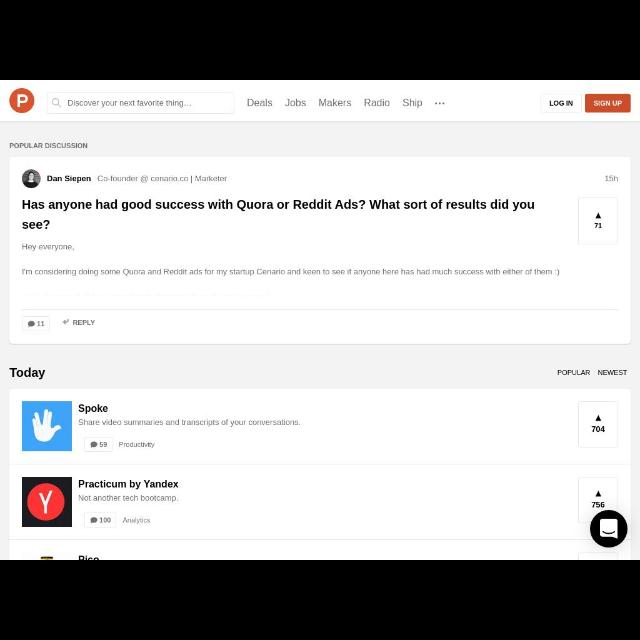button: (579, 198, 617, 246), (580, 402, 616, 448), (580, 480, 618, 522), (590, 512, 628, 548)
icon: (601, 518, 617, 538), (52, 98, 62, 109), (595, 490, 603, 498), (435, 100, 445, 106), (26, 321, 34, 327), (595, 416, 601, 422), (90, 442, 96, 448), (62, 318, 68, 324), (596, 212, 600, 218), (90, 518, 96, 522)
image: (22, 402, 72, 451), (22, 478, 72, 526), (10, 89, 34, 113), (23, 169, 41, 187)
input: (49, 93, 235, 113)
text: (23, 200, 535, 230), (21, 268, 561, 278), (78, 419, 302, 429), (68, 98, 192, 108), (78, 478, 178, 489), (78, 495, 178, 505), (10, 142, 89, 150), (98, 175, 188, 182), (9, 366, 45, 379), (22, 242, 74, 250), (318, 98, 352, 109), (364, 98, 391, 109), (118, 442, 154, 450), (47, 176, 91, 182), (247, 98, 273, 108), (594, 99, 624, 107), (78, 404, 108, 412), (597, 369, 627, 377), (556, 369, 590, 376), (195, 175, 228, 182), (122, 516, 150, 524), (286, 99, 306, 107), (402, 100, 422, 108), (73, 319, 95, 326), (550, 101, 574, 107), (98, 442, 108, 450), (100, 518, 112, 524), (604, 176, 620, 180), (594, 222, 602, 230), (38, 320, 44, 326)
textbutton: (584, 94, 632, 112), (541, 96, 581, 110), (85, 513, 115, 527), (22, 318, 50, 330), (87, 440, 113, 452)
toolbar: (1, 80, 639, 122)
